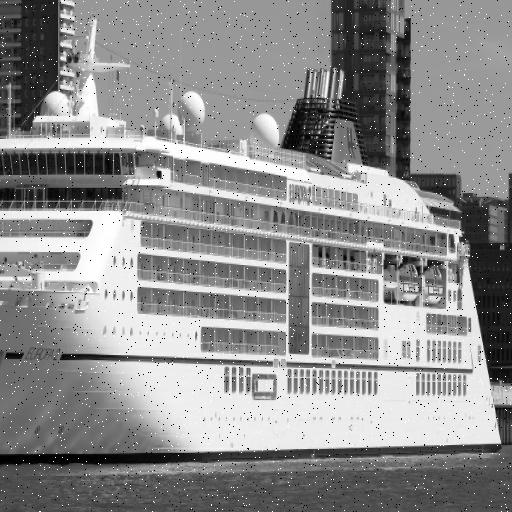cruises: (1, 26, 504, 477)
